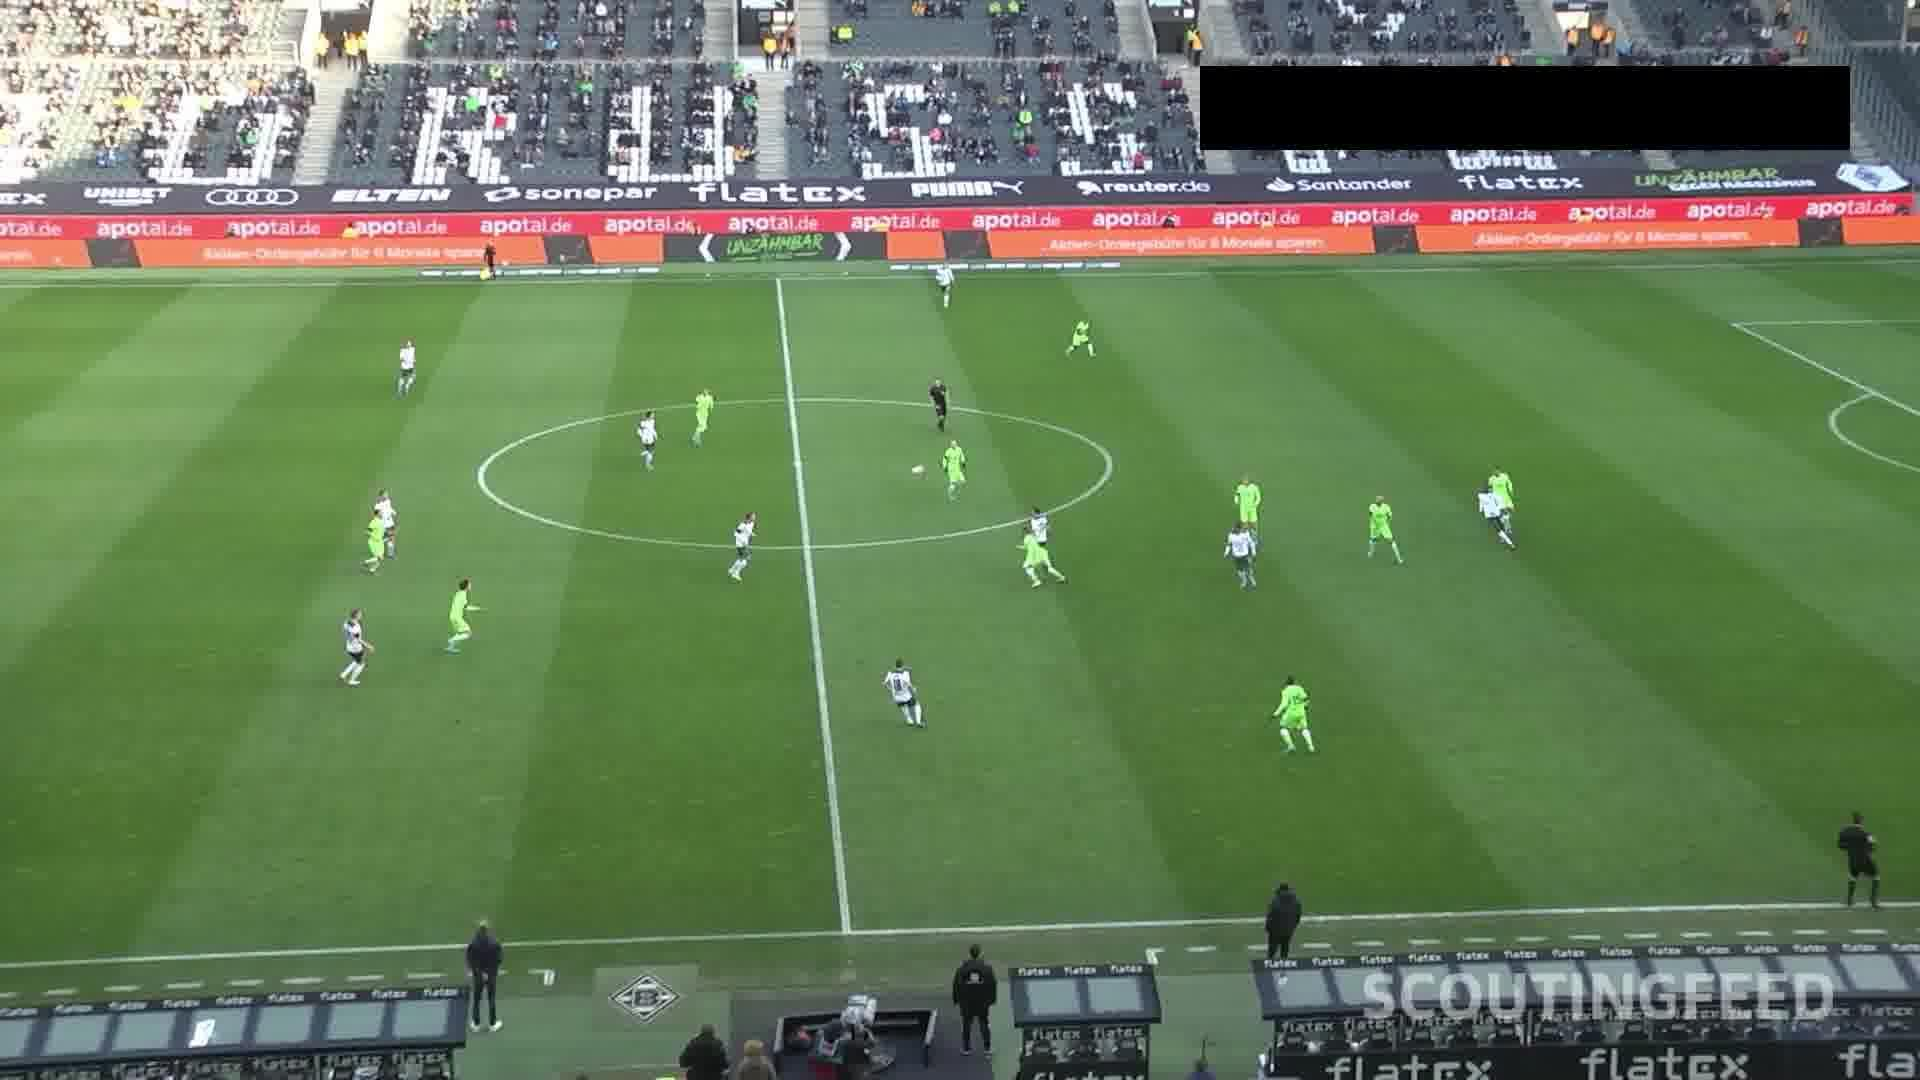football: (911, 463, 927, 472)
